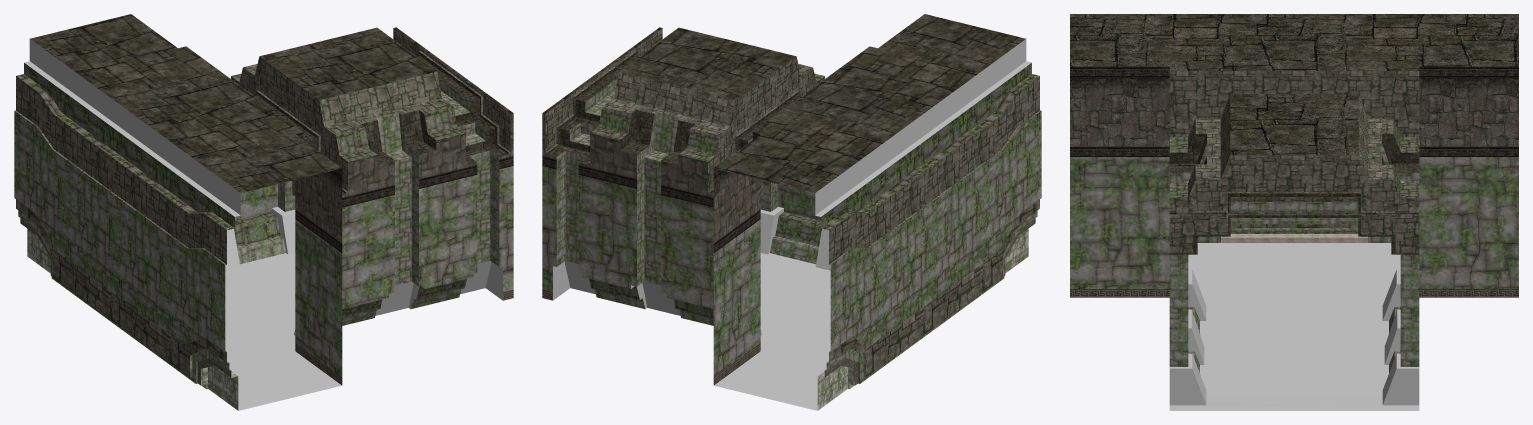
The model's file is thm_yavn_palace_woolamander_r4_altar_hallway1_mesh.fbx.
The picture shows the model from 3 angles, left to right: view 1: azimuth 30°, elevation 25°; view 2: azimuth 150°, elevation 25°; view 3: azimuth 270°, elevation 25°; orthographic projection. The views are drawn at different scales.
Parts seen in each view (by area): view 1: mesh_node; view 2: mesh_node; view 3: mesh_node.
Part boxes in pixels (left/top/right/bottom): mesh_node: left=14, top=14, right=513, bottom=410; mesh_node: left=542, top=14, right=1041, bottom=410; mesh_node: left=1070, top=14, right=1518, bottom=410.
Size of the model in its own units: 16.51 by 10.22 by 18.
